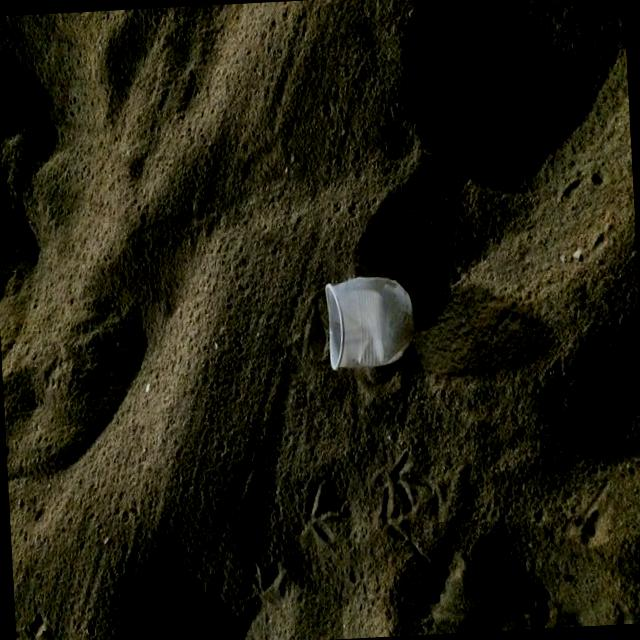Recycle: (325, 273, 417, 371)
